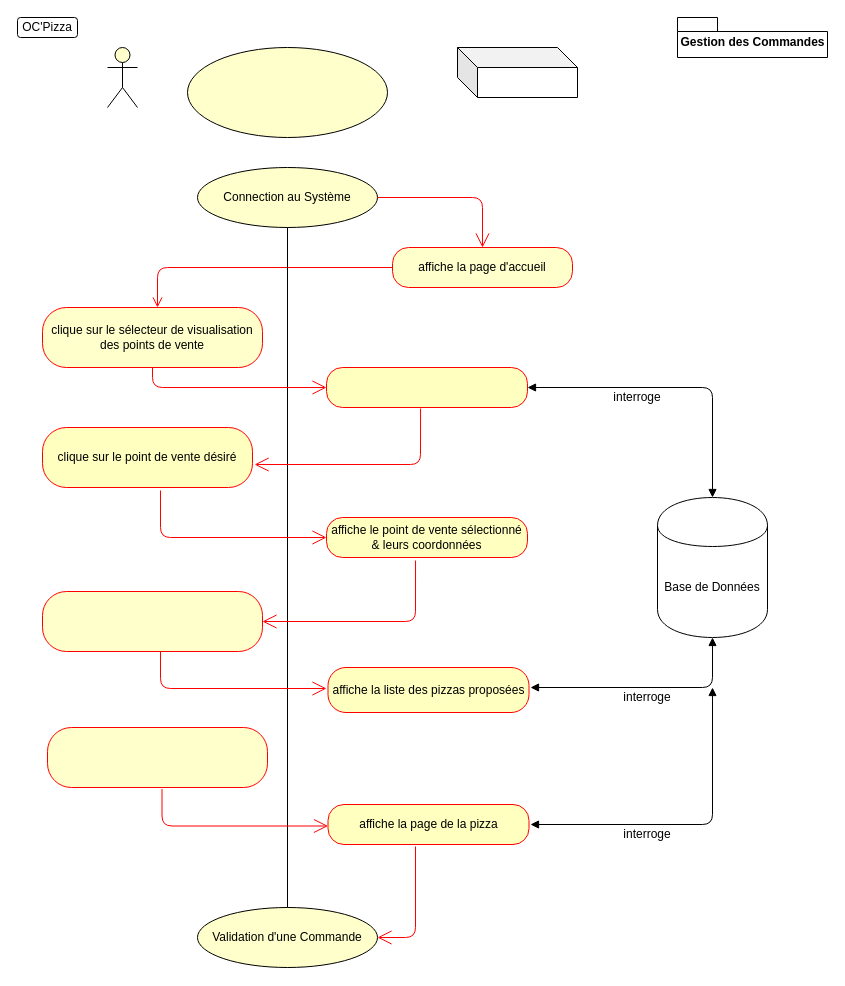
The diagram is 845 pixels wide and 986 high, and some of its shapes have lost their labels. The centre of each missing label's shape, as x and y in pixels:
affiche les points de vente: (427,387)
CLIENT: (122,77)
clique sur la pizza dont il souhaite connaître les détails: (157,757)
clique sur le sélecteur de visualisation des produits (pizzas): (152,621)
CONSULTATION des PRODUITS & SELECTION d'une PIZZA: (287,92)
SYSTEME: (517,72)
